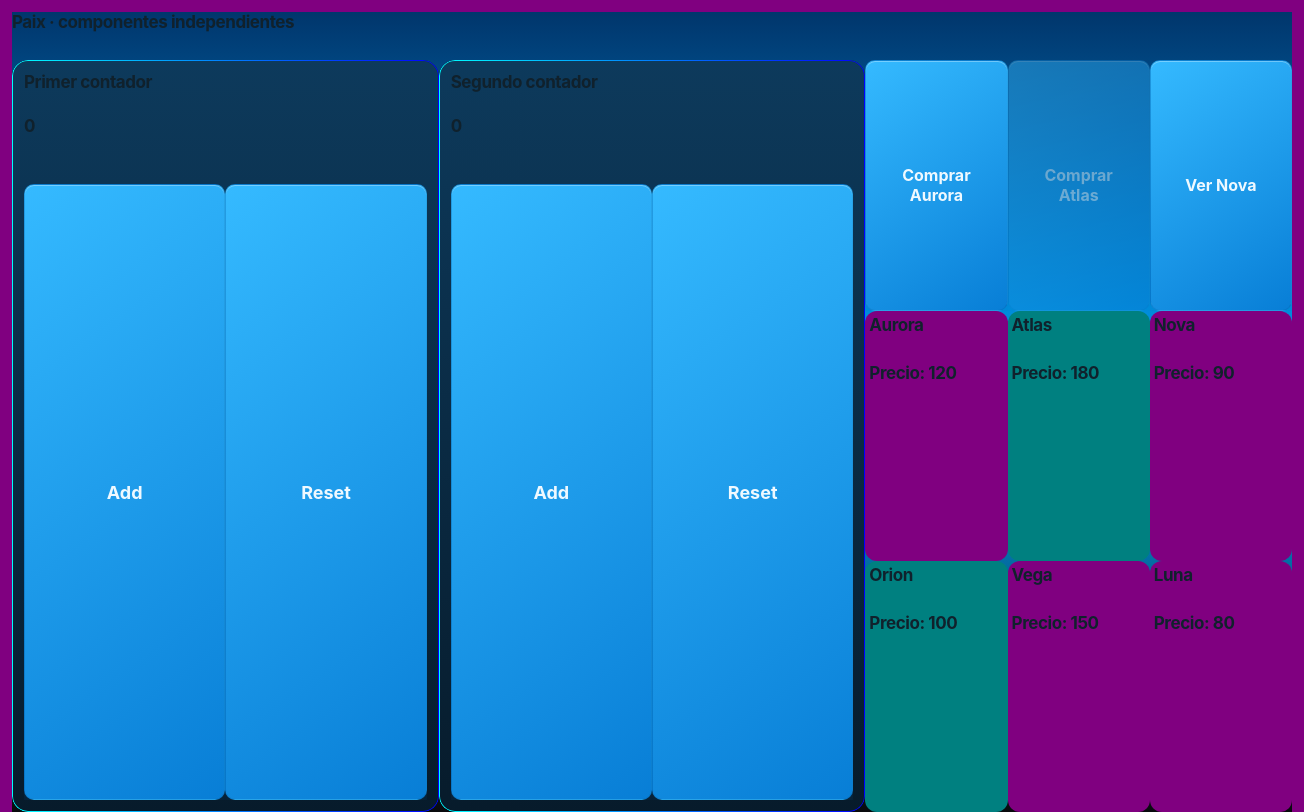
Test: two instances keep independent states and conditional style variants
Click the button "Add" below "Primer contador" at [125, 492], box 24,184 -> 225,800
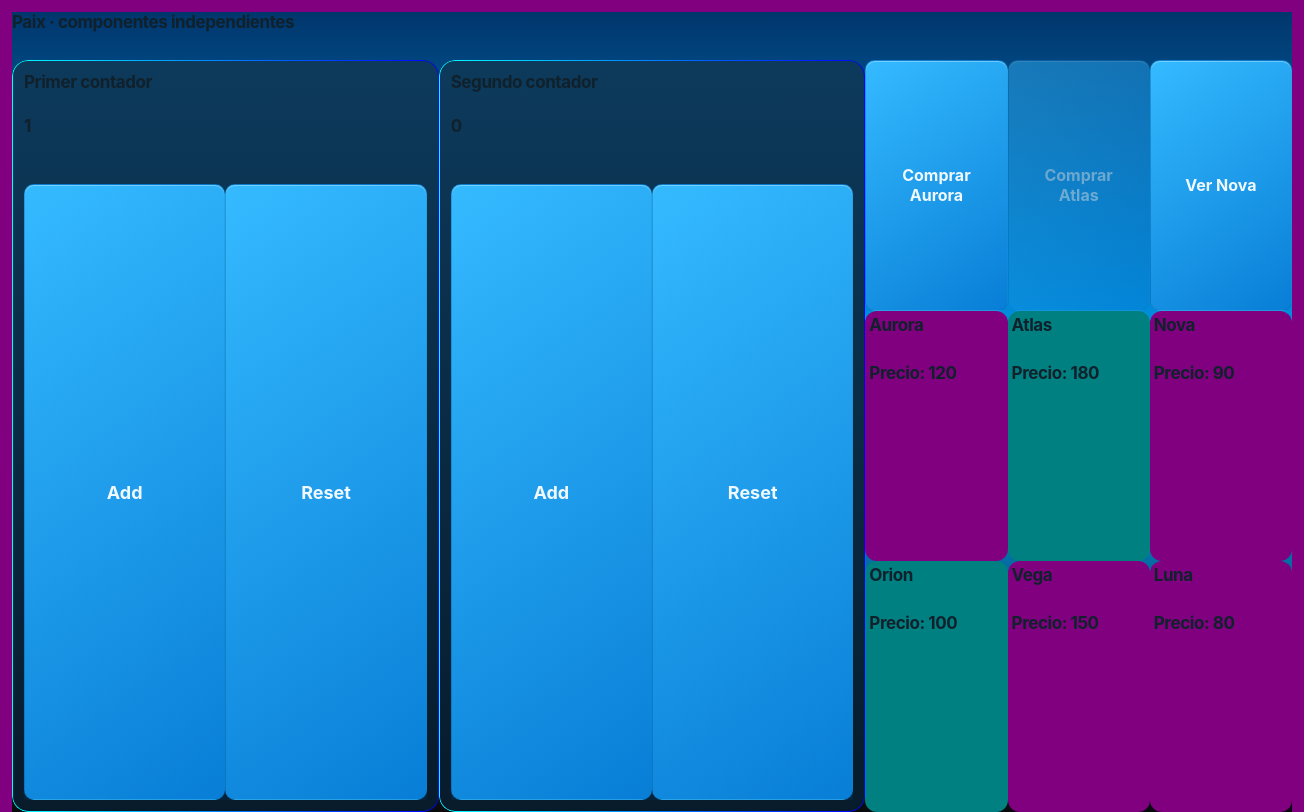
Click the button "Add" below "Primer contador" at [125, 492], box 24,184 -> 225,800
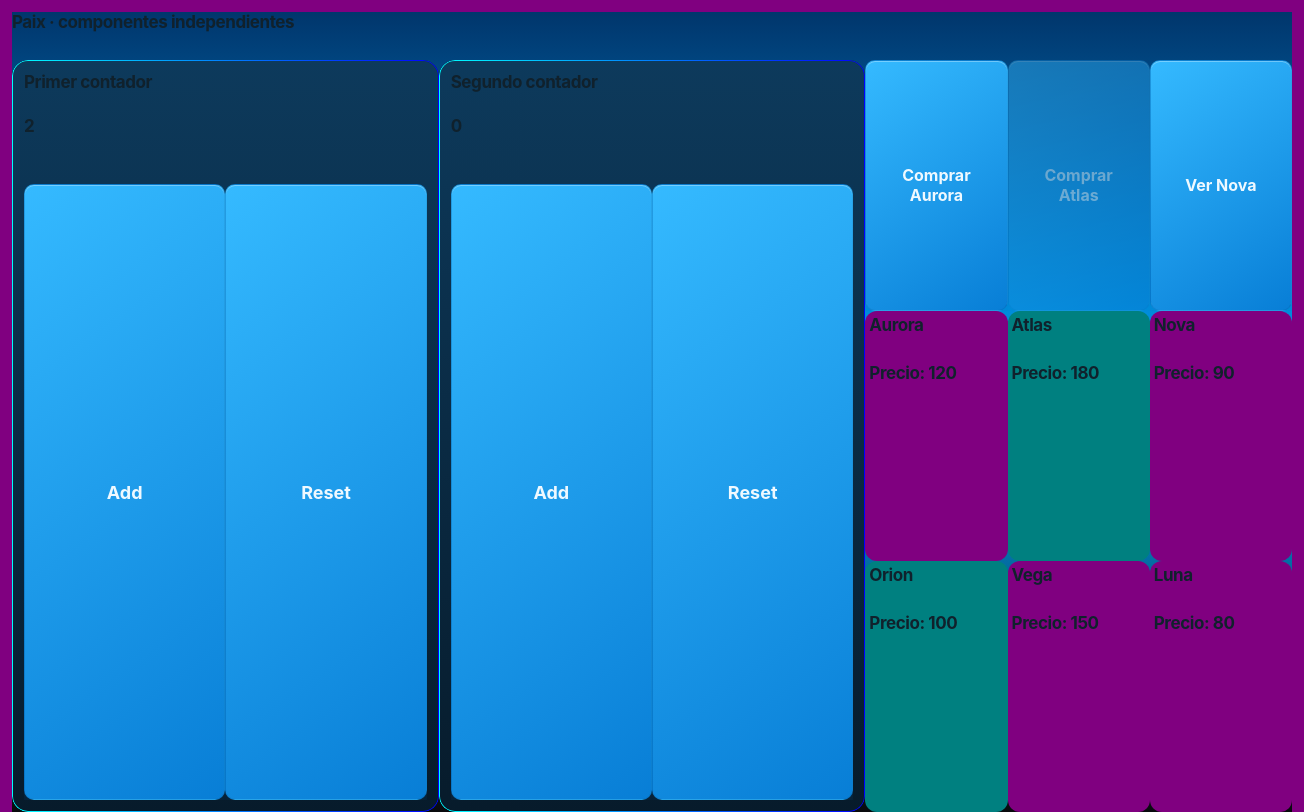
Click the button "Add" below "Primer contador" at [125, 492], box 24,184 -> 225,800
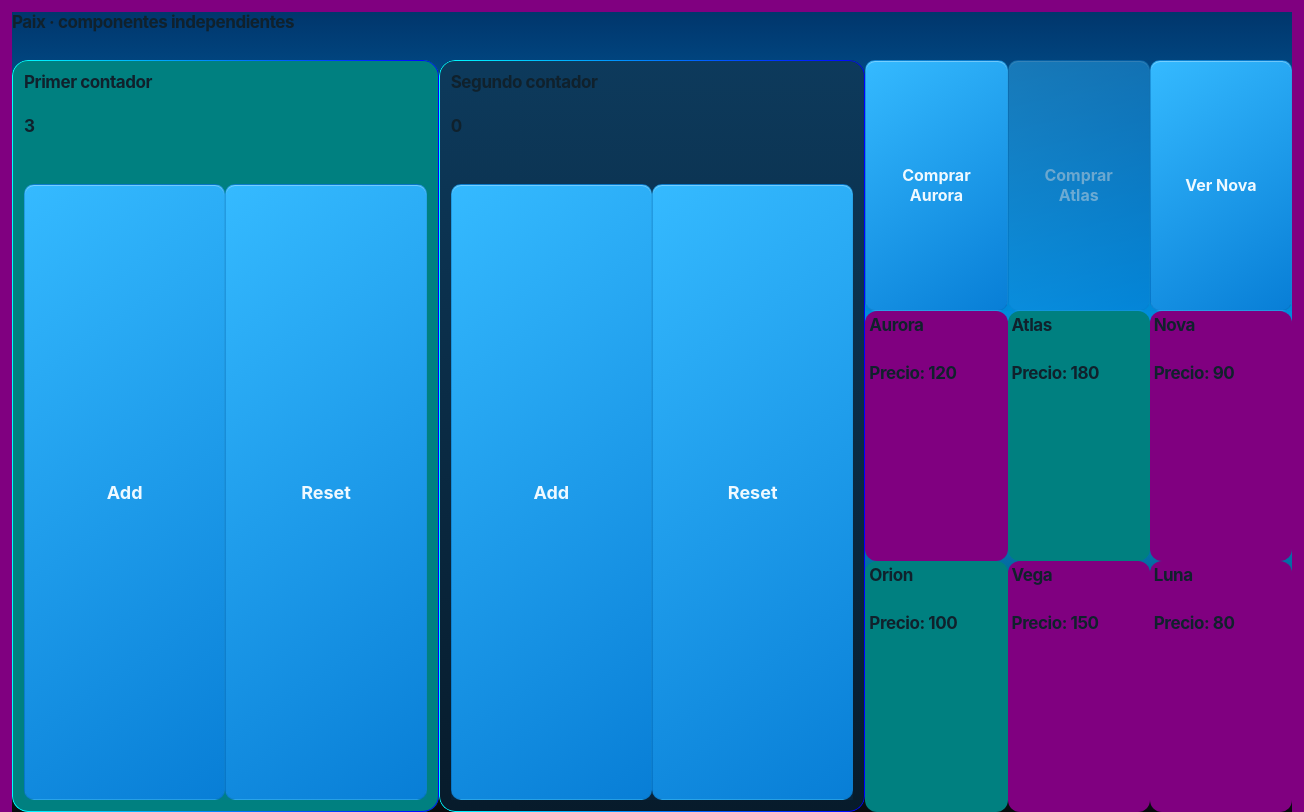
Expected: the text "0" is shown, 451,116 -> 462,136
Expected: the text "3" is shown, 24,116 -> 35,136
Click the button "Reset" below "Primer contador" at [326, 492], box 225,184 -> 427,800
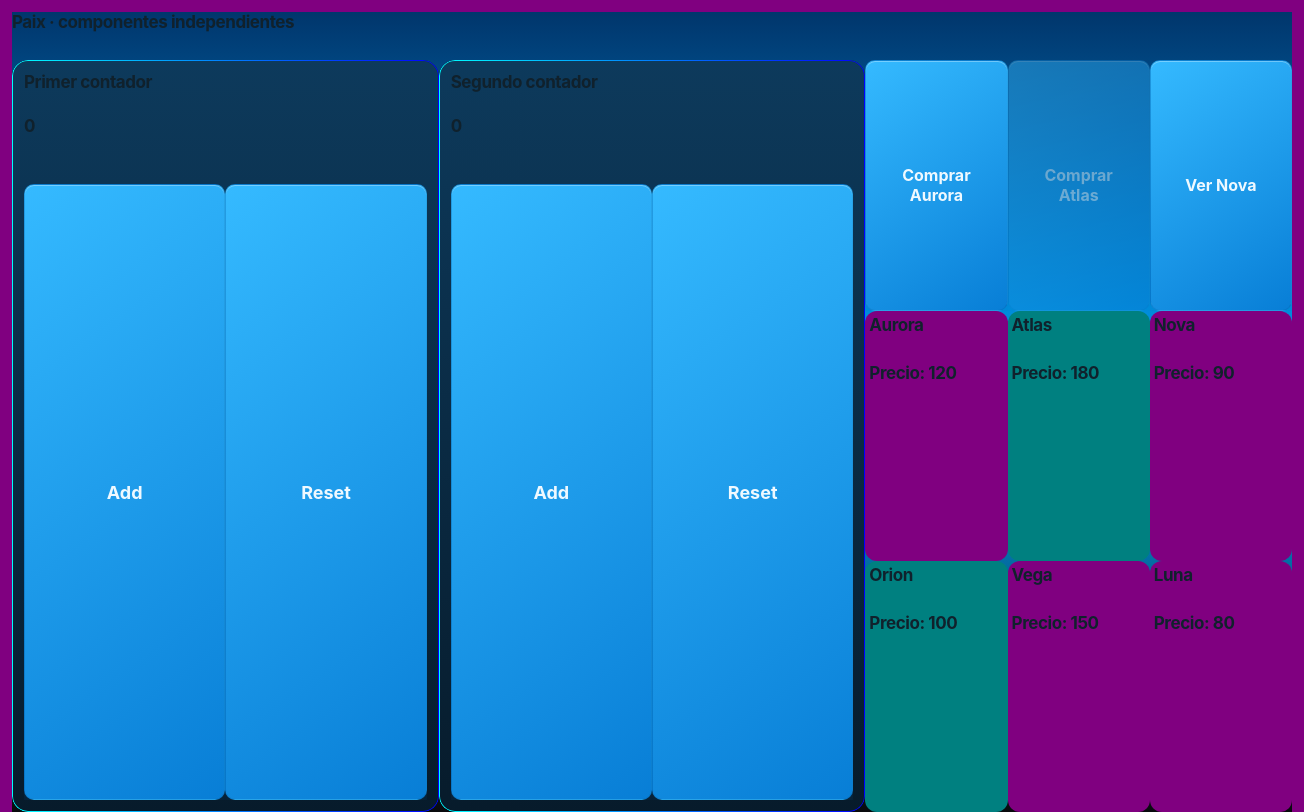
Expected: the text "0" below "Primer contador" is shown, 24,116 -> 35,136
